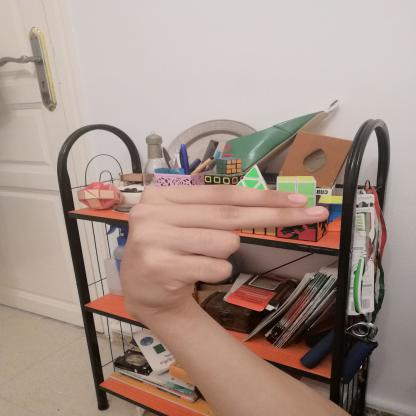AYN: (108, 178, 344, 321)
